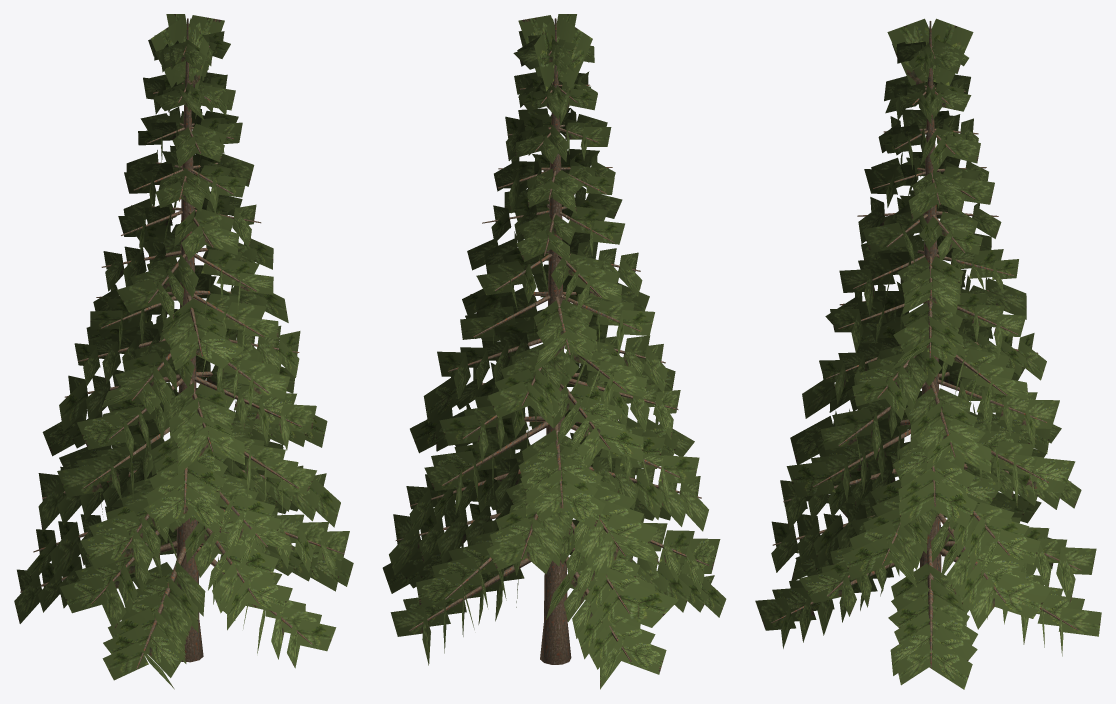
Rendered from pine_1.glb.
3 renders of one model, left to right at view 1: azimuth 30°, elevation 25°; view 2: azimuth 150°, elevation 25°; view 3: azimuth 270°, elevation 25°, orthographic.
Parts seen in each view (by area): view 1: Pine; view 2: Pine; view 3: Pine.
Part boxes in pixels (x1,y1,x2,y2): Pine: [14, 14, 353, 689]; Pine: [382, 14, 726, 689]; Pine: [755, 18, 1101, 689].
Bounding box in the file's own units: 6.73 × 14.03 × 6.88.
Materials: 2 (2 with a texture image).
